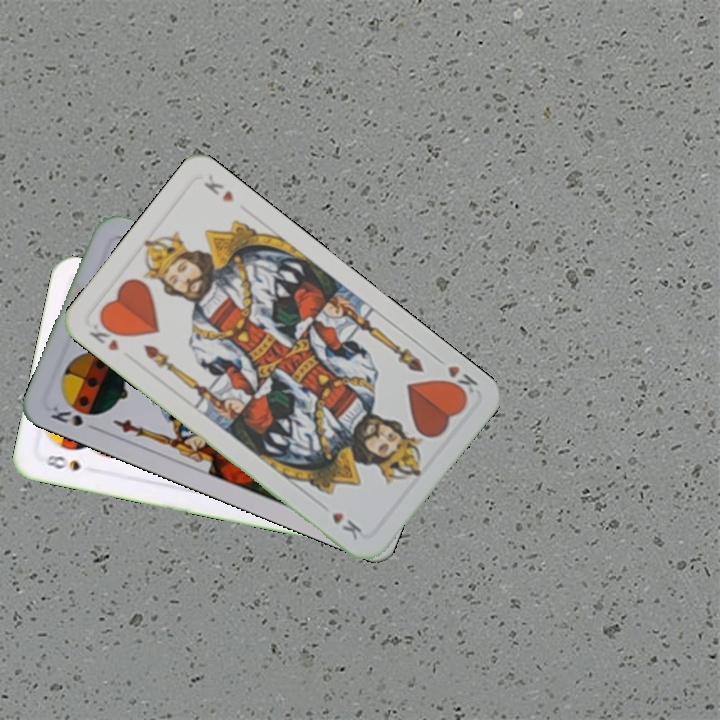HK: (430, 352, 481, 402), (85, 316, 124, 354)
S8: (37, 450, 83, 474)
SK: (46, 402, 102, 434)
